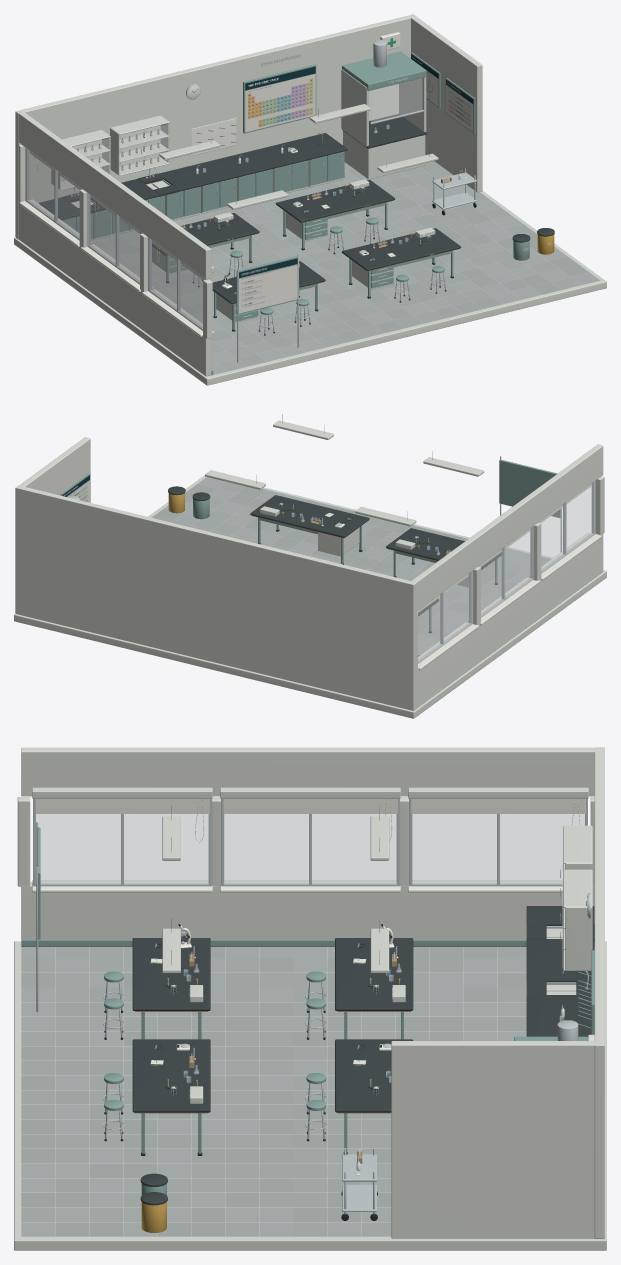
Rendered from science-lab.glb.
3 renders of one model, top to bottom at view 1: azimuth 30°, elevation 25°; view 2: azimuth 150°, elevation 25°; view 3: azimuth 270°, elevation 25°, orthographic. The views are drawn at different scales.
Visible parts, largest first — view 1: Tiled floor • 600 mm module, Rear wall, Window wall dado, Floor slab, Window wall lintel, Right rear display wall, Prep counter resin.002, Periodic table, Window glazing, Window glazing.002, Window glazing.001, Lab practice (+27 smaller); view 2: Rear wall, Tiled floor • 600 mm module, Window wall dado, Window wall lintel, Floor slab, Window glazing, Window glazing.002, Window glazing.001, Workstation 02 resin worktop, Right rear display wall, Lab practice frame, Workstation 01 resin worktop (+11 smaller); view 3: Tiled floor • 600 mm module, Right rear display wall, Window wall lintel, Window wall dado, Floor slab, Window glazing.001, Window glazing, Window glazing.002, Workstation 02 resin worktop, Rear wall, Workstation 03 resin worktop, Workstation 01 resin worktop (+30 smaller).
Part boxes in pixels (<box>): Tiled floor • 600 mm module: <box>91,155,600,375</box>; Rear wall: <box>15,14,416,239</box>; Window wall dado: <box>19,201,211,376</box>; Floor slab: <box>14,168,606,385</box>; Window wall lintel: <box>18,111,211,279</box>; Right rear display wall: <box>411,16,482,192</box>; Prep counter resin.002: <box>158,133,347,191</box>; Periodic table: <box>245,66,315,132</box>; Window glazing: <box>148,237,204,330</box>; Window glazing.002: <box>25,147,81,240</box>; Window glazing.001: <box>87,193,142,284</box>; Lab practice: <box>239,258,297,313</box>; Rear wall: <box>15,485,416,710</box>; Tiled floor • 600 mm module: <box>151,477,550,655</box>; Window wall dado: <box>417,534,603,707</box>; Window wall lintel: <box>410,444,603,610</box>; Floor slab: <box>14,475,606,718</box>; Window glazing: <box>539,481,595,573</box>; Window glazing.002: <box>417,571,472,663</box>; Window glazing.001: <box>478,526,533,617</box>; Workstation 02 resin worktop: <box>250,495,369,537</box>; Right rear display wall: <box>19,437,90,502</box>; Lab practice frame: <box>499,459,560,517</box>; Workstation 01 resin worktop: <box>386,528,501,569</box>; Tiled floor • 600 mm module: <box>21,947,594,1236</box>; Right rear display wall: <box>391,1041,598,1238</box>; Window wall lintel: <box>21,747,598,796</box>; Window wall dado: <box>21,882,594,939</box>; Floor slab: <box>14,941,606,1250</box>; Window glazing.001: <box>224,814,396,881</box>; Window glazing: <box>36,814,208,881</box>; Window glazing.002: <box>412,814,584,881</box>; Workstation 02 resin worktop: <box>132,1039,210,1112</box>; Rear wall: <box>594,747,604,1238</box>; Workstation 03 resin worktop: <box>335,938,413,1010</box>; Workstation 01 resin worktop: <box>132,938,210,1010</box>.
Bounding box in the file's own units: 12.27 × 3.93 × 10.25.
Materials: 23 (4 with a texture image).
